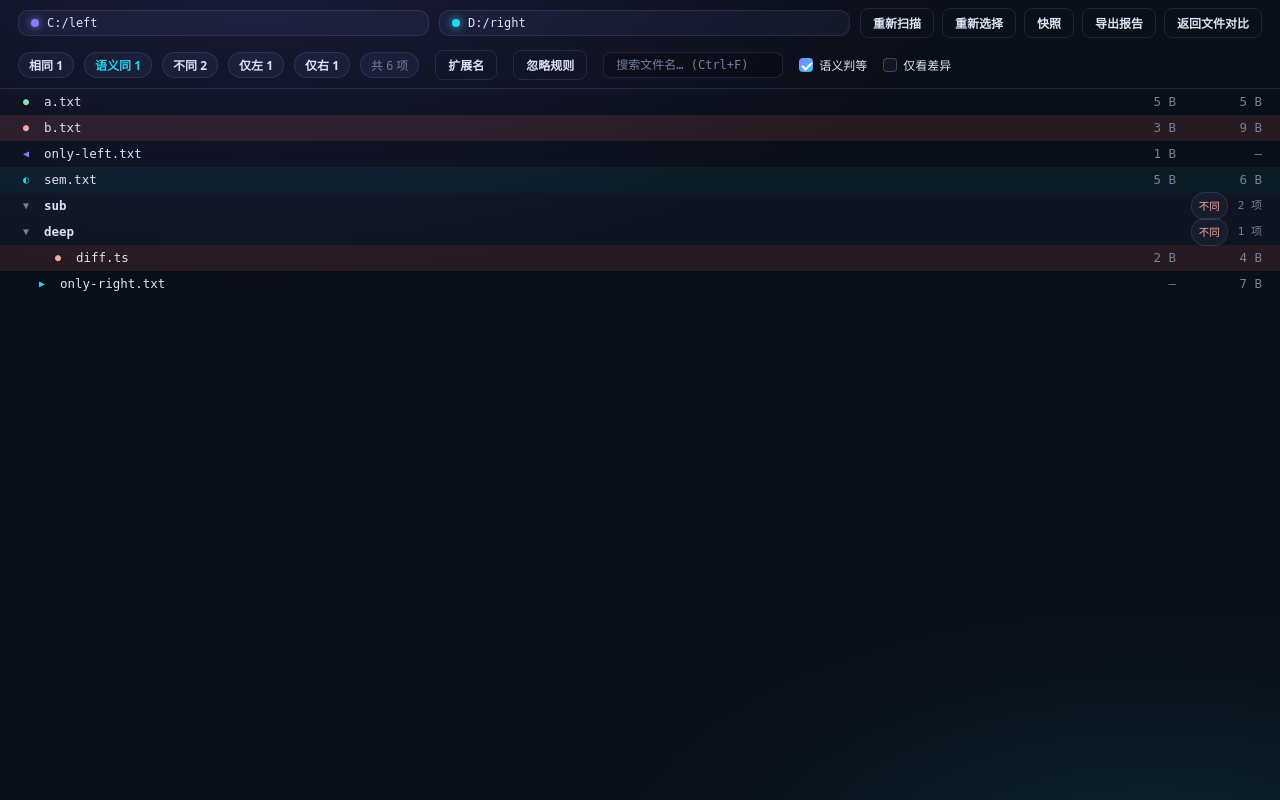
Scenario: FolderView - 搜索 › 有内容时显示清空按钮，点击清空并保持焦点（0.10.5）
The width and height of the screenshot is (1280, 800).
Type "diff" into the field with placeholder "搜索文件名… (Ctrl+F)".
click(693, 65); type("diff")  # box [603,52,783,78]
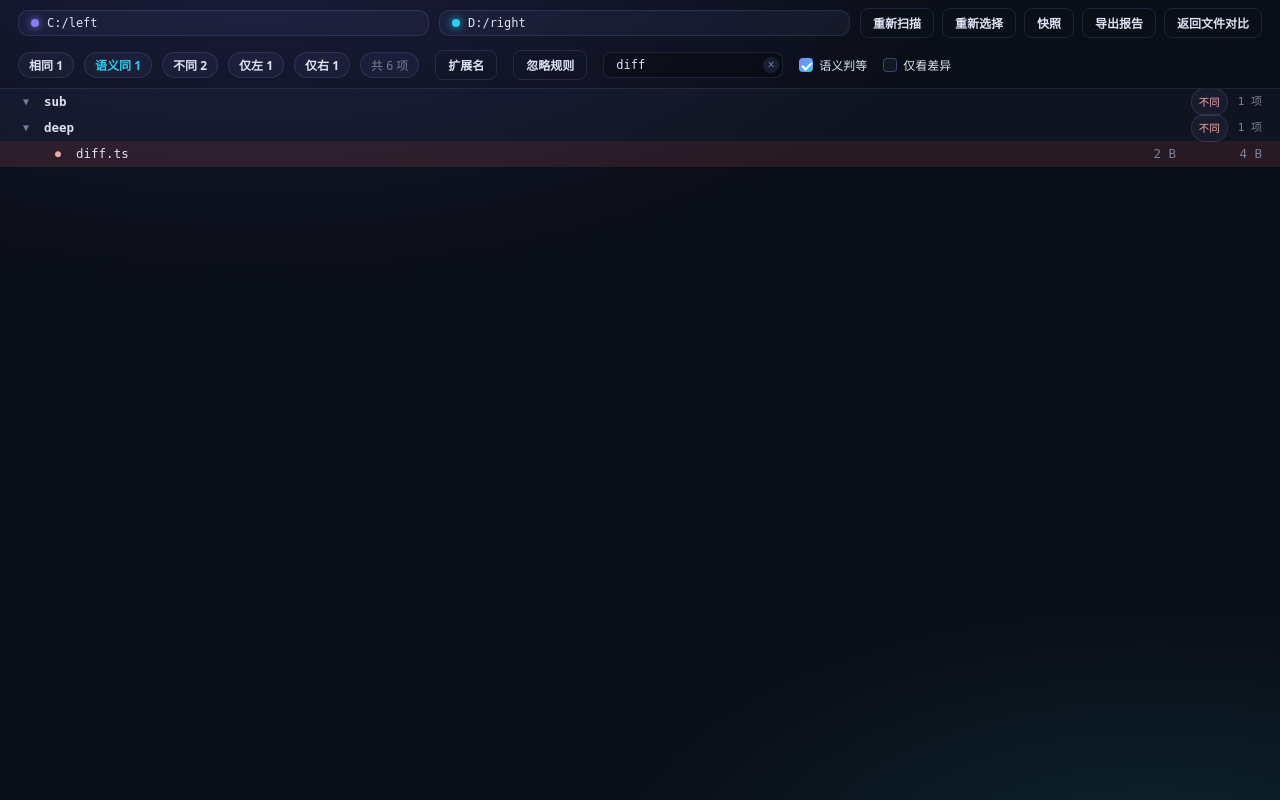
expect the button titled "清空搜索（Esc）" is shown: met
Click the button titled "清空搜索（Esc）".
click(771, 65)  # box [763,57,779,73]
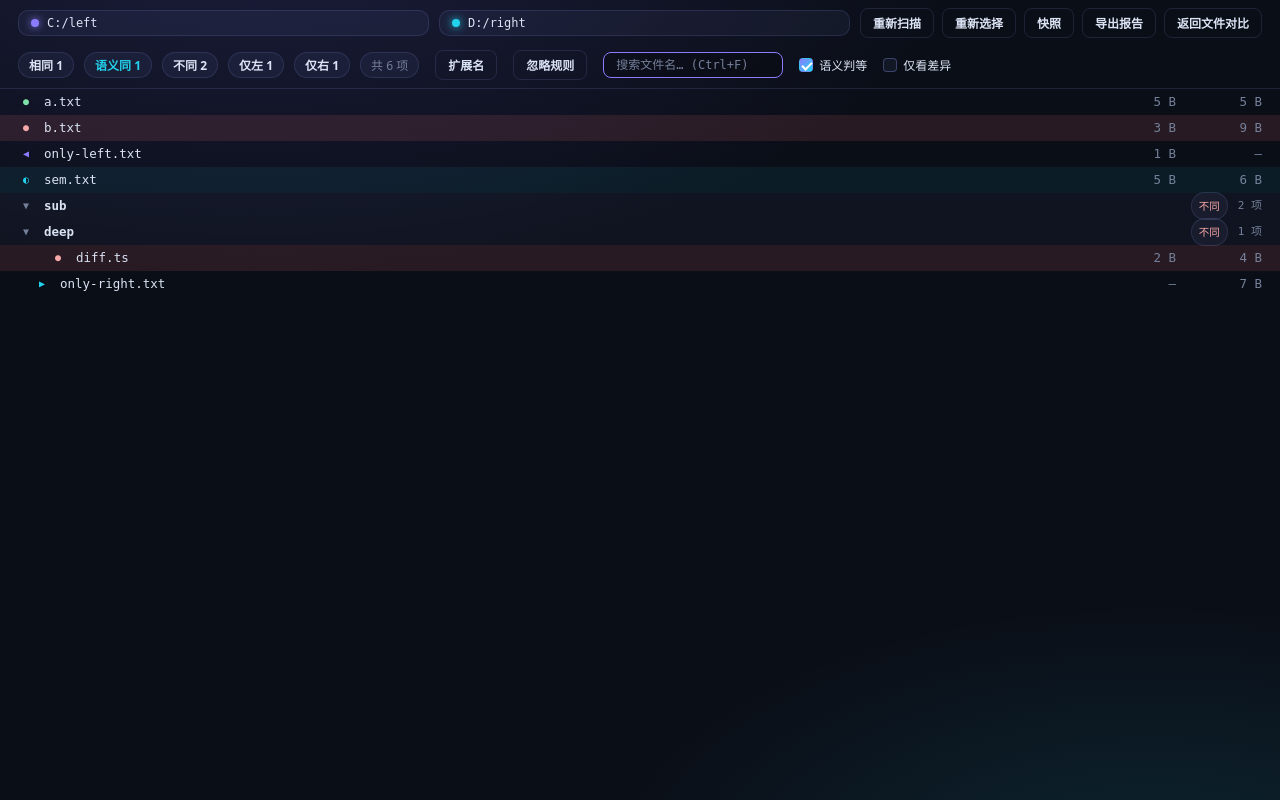
expect the field with placeholder "搜索文件名… (Ctrl+F)" is empty: met, box [603,52,783,78]
expect the text "a.txt" is shown: met, box [44,94,82,109]
